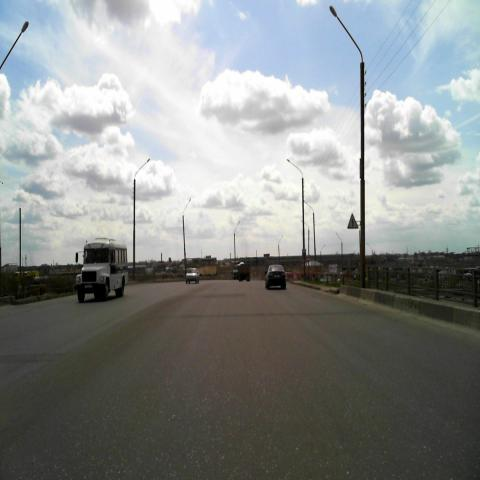2_3_2: (346, 212, 358, 229)
